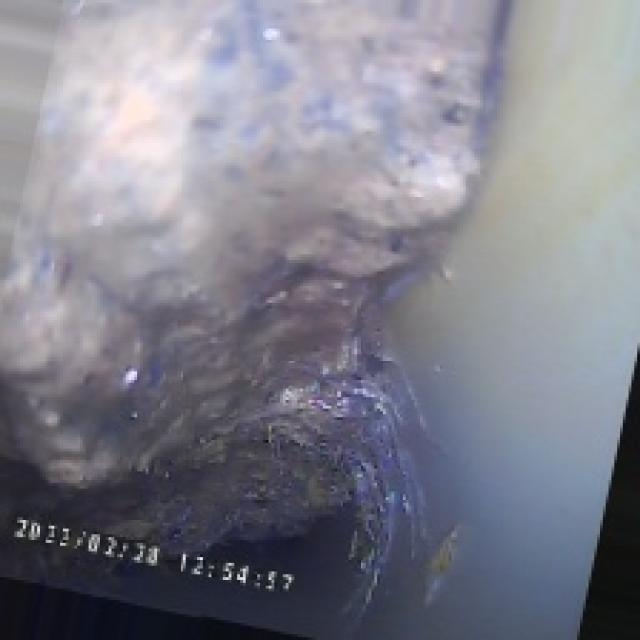sluge accumulation: (51, 29, 440, 532)
